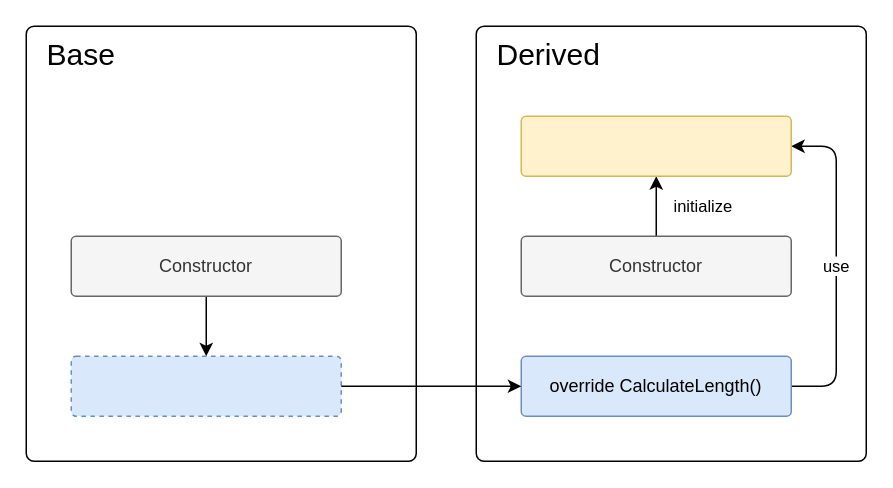
The diagram is 893 pixels wide and 488 high, and some of its shapes have lost their labels. The centre of each missing label's shape, as x and y in pixels:
"string value;" goes at [655,145].
"virtual CalculateLength()" goes at [205,385].
